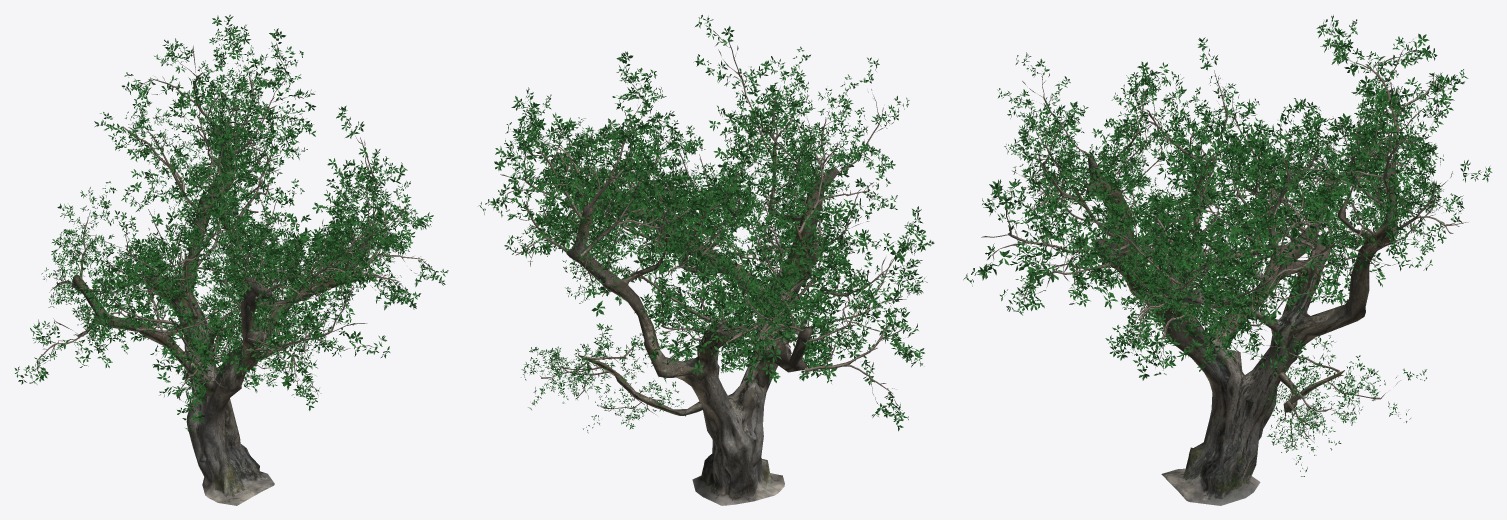
The model's file is village-pbr-island_tree_01.glb.
3 renders of one model, left to right at view 1: azimuth 30°, elevation 25°; view 2: azimuth 150°, elevation 25°; view 3: azimuth 270°, elevation 25°, orthographic. The views are drawn at different scales.
Parts seen in each view (by area): view 1: island_tree_01_LOD0; view 2: island_tree_01_LOD0; view 3: island_tree_01_LOD0.
Boxes of the visible parts, x1,y1,x2,y2 form: island_tree_01_LOD0: [14, 14, 448, 505]; island_tree_01_LOD0: [479, 15, 934, 505]; island_tree_01_LOD0: [963, 15, 1492, 505].
Bounding box in the file's own units: 4.75 × 5.02 × 4.82.
Materials: 3 (3 with a texture image).
